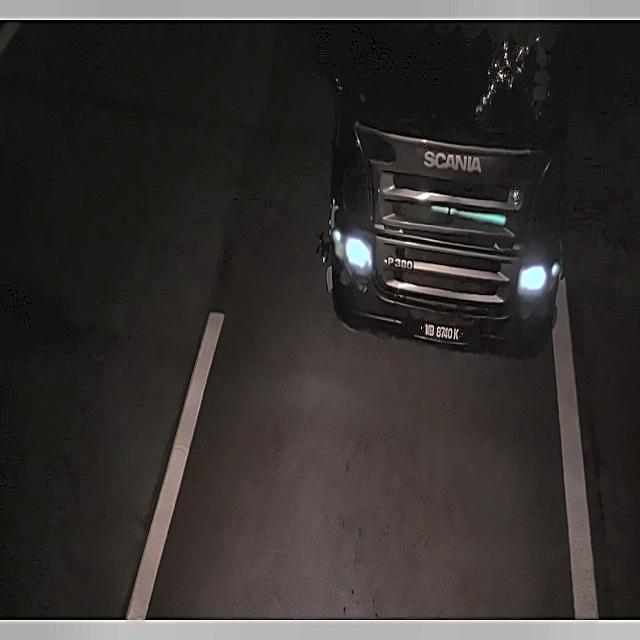car: (414, 315, 466, 351)
